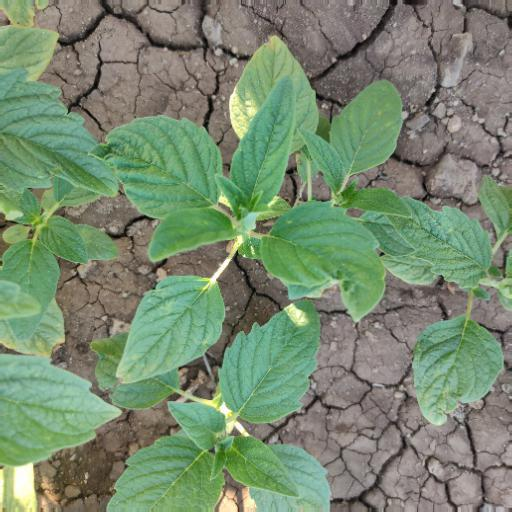crop: (103, 53, 421, 391), (106, 299, 339, 512), (1, 15, 107, 474), (374, 168, 511, 435)
